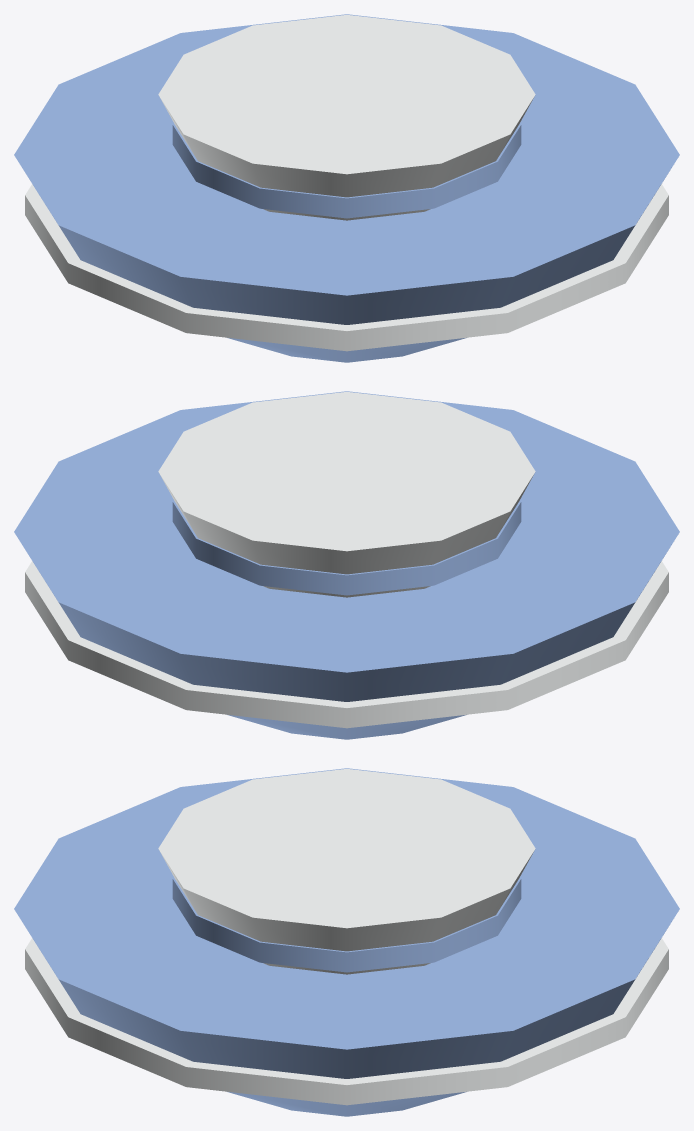
File: bowlCeramicDuo.glb
The picture shows the model from 3 angles, top to bottom: view 1: azimuth 30°, elevation 25°; view 2: azimuth 150°, elevation 25°; view 3: azimuth 270°, elevation 25°; orthographic projection.
Visible parts, largest first — view 1: bowlCeramicDuo; view 2: bowlCeramicDuo; view 3: bowlCeramicDuo.
Boxes of the visible parts, box(x1,y1,x2,y2) form: bowlCeramicDuo: box(14, 14, 679, 362); bowlCeramicDuo: box(14, 391, 679, 739); bowlCeramicDuo: box(14, 768, 679, 1116).
Size of the model in its own units: 0.3 by 0.11 by 0.3.
